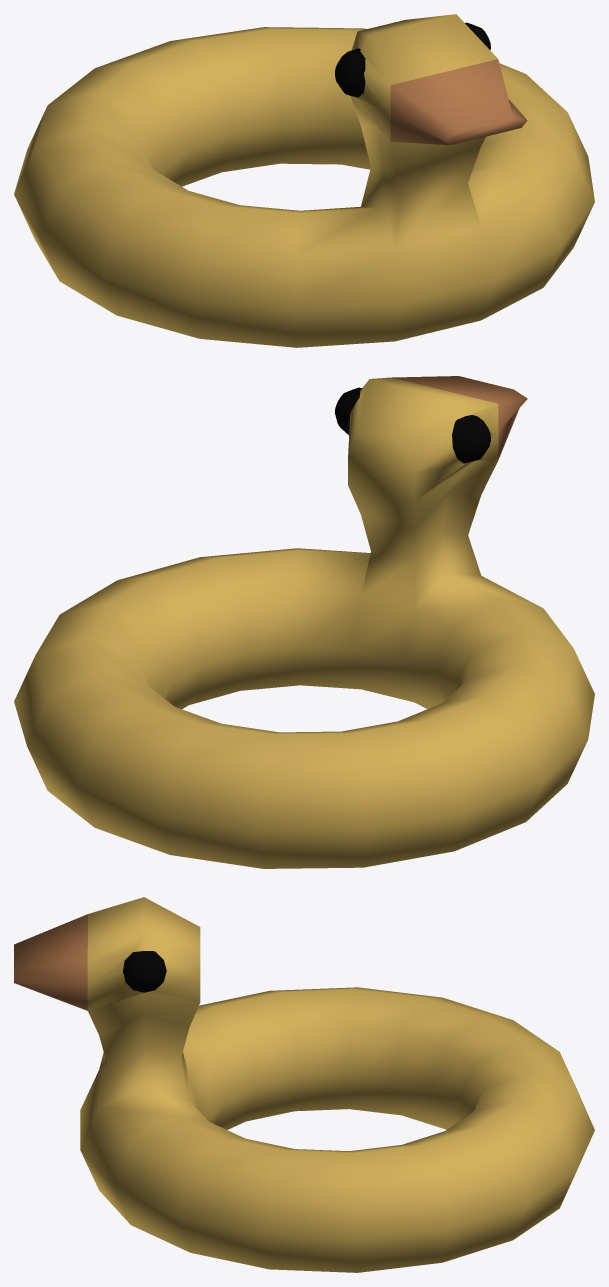
The model's file is duck-tube-hat.fbx.
The picture shows the model from 3 angles, top to bottom: view 1: azimuth 30°, elevation 25°; view 2: azimuth 150°, elevation 25°; view 3: azimuth 270°, elevation 25°; orthographic projection. The views are drawn at different scales.
Visible parts, largest first — view 1: Tube; view 2: Tube; view 3: Tube.
Boxes of the visible parts, box(x1,y1,x2,y2) form: Tube: box(14, 14, 594, 347); Tube: box(14, 376, 594, 868); Tube: box(14, 897, 594, 1272).
Bounding box in the file's own units: 31.86 × 18.57 × 35.82.
